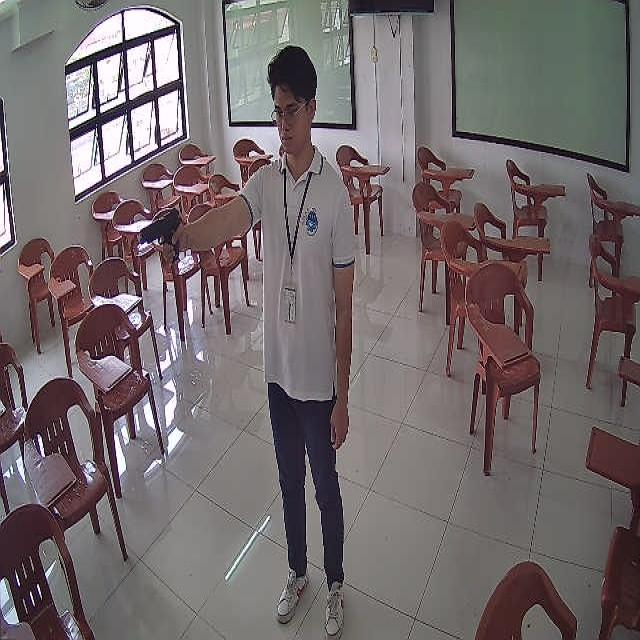pistol: (140, 213, 178, 244)
